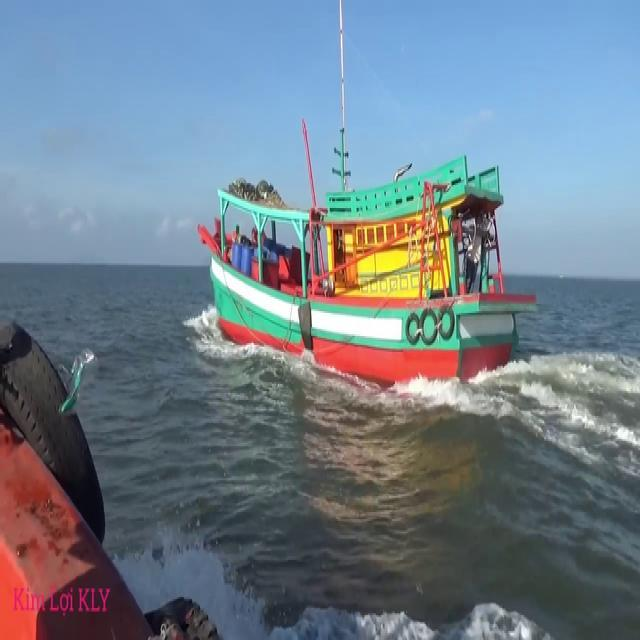Ship: (197, 149, 536, 397)
